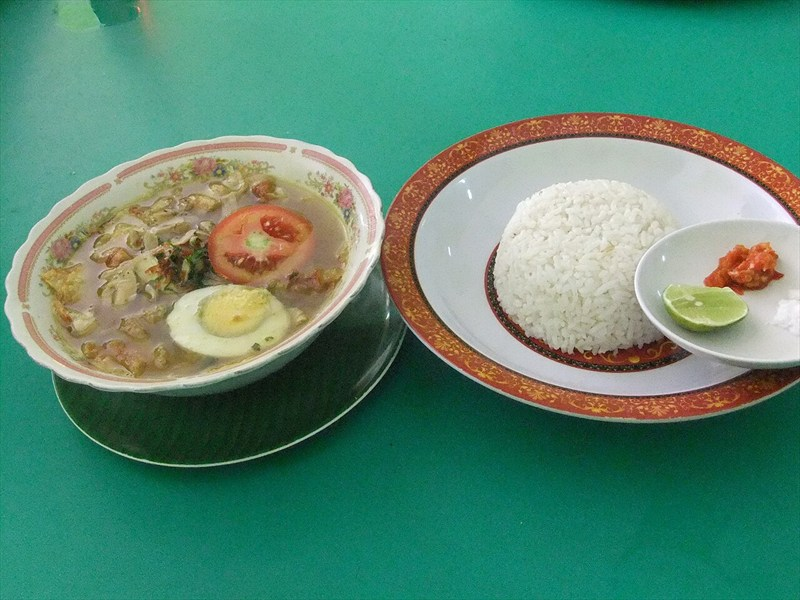Soto Ayam: (37, 124, 783, 426)
